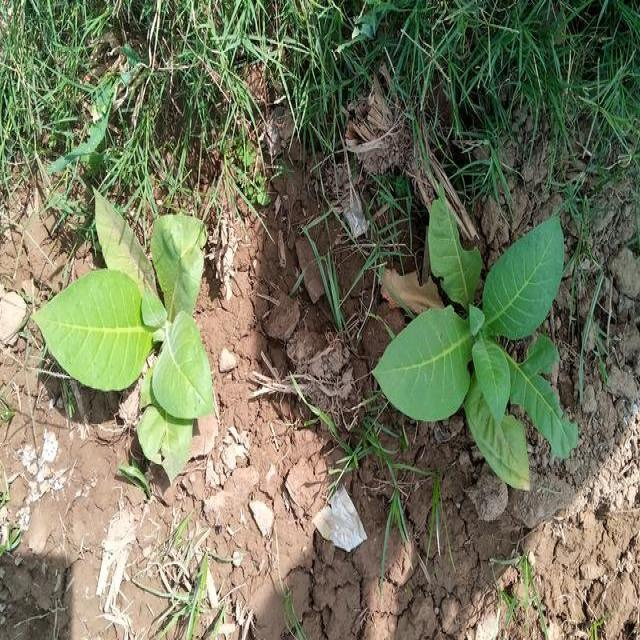crop: (388, 202, 578, 476), (46, 204, 218, 455)
